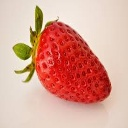strawberry: (14, 11, 112, 102)
